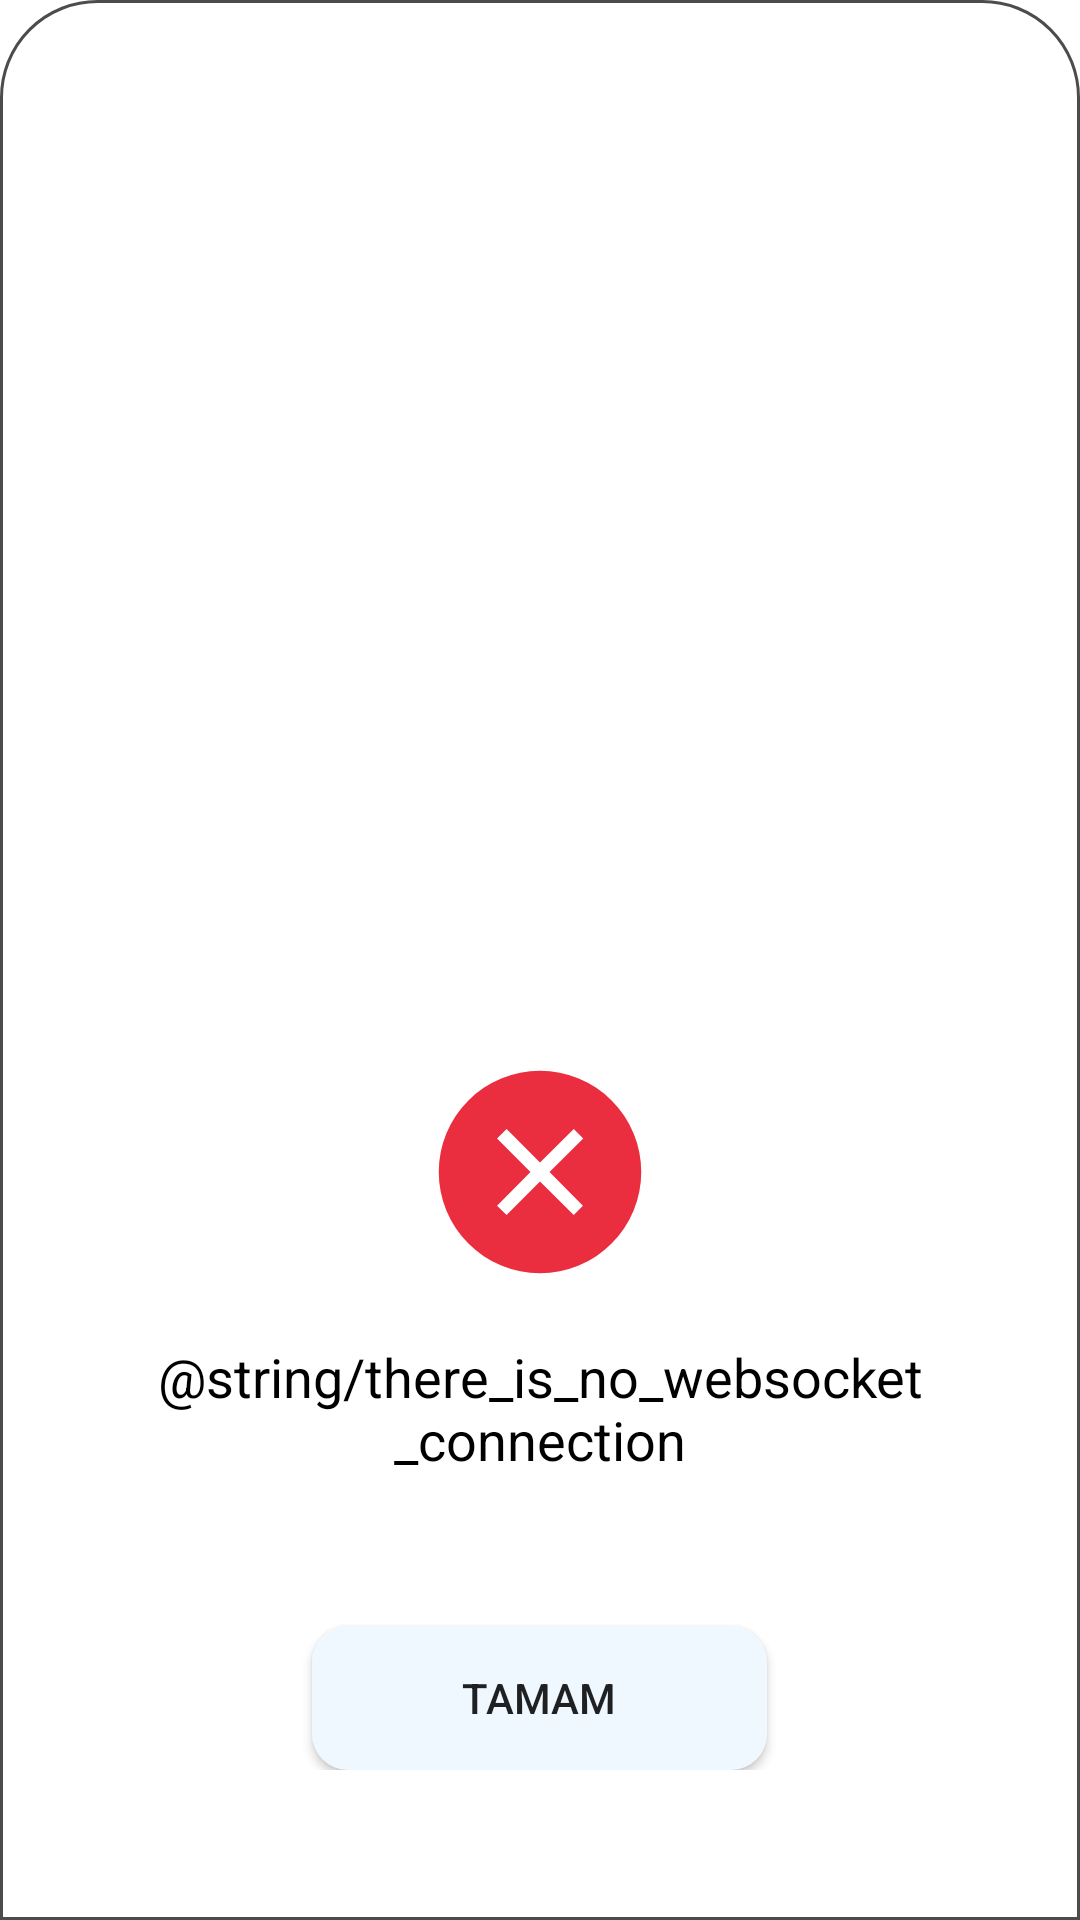

Where icons sit on this 1080w x 1920h app screen, as {"left": x1, "top": y1, "right": x2, "bottom": y2}:
error: {"left": 438, "top": 1070, "right": 642, "bottom": 1274}
